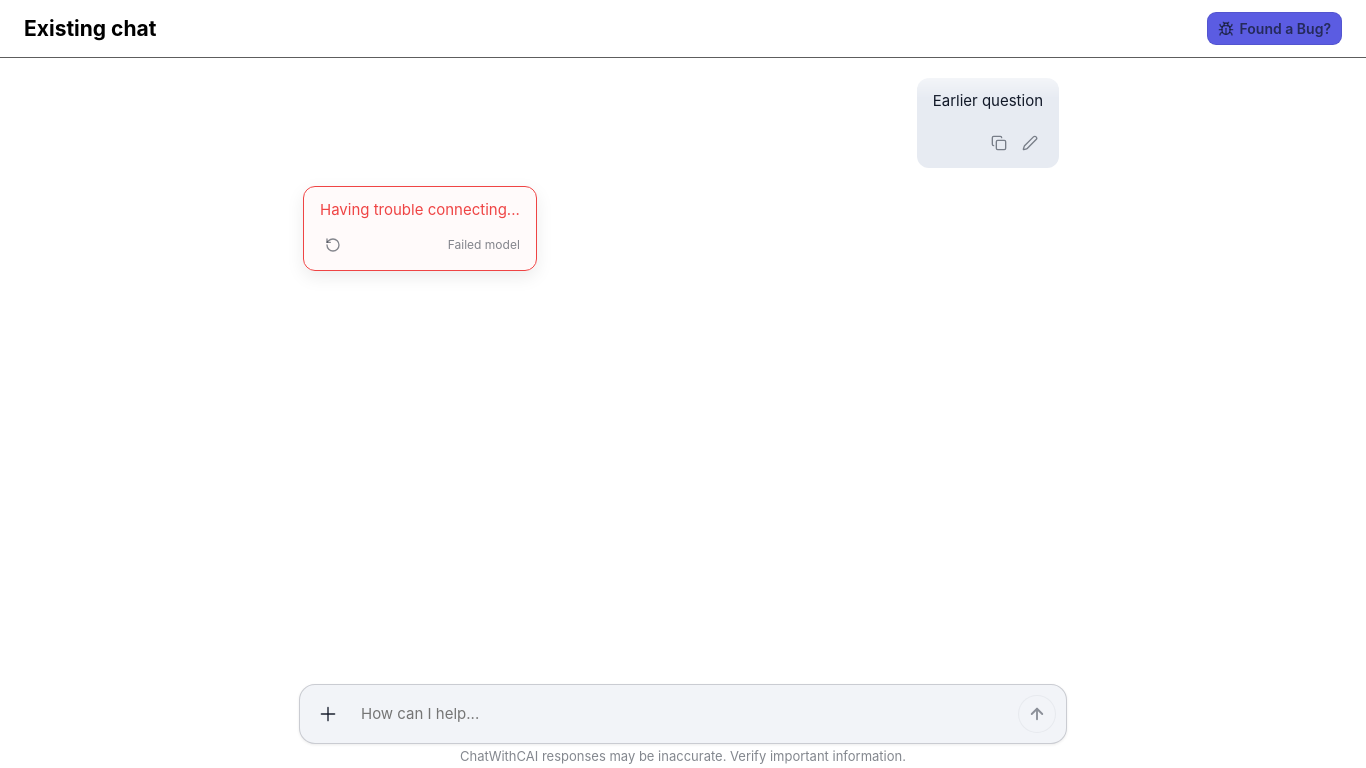
chat message sending › links an errored AI message to its regenerated replacement
Check: the text "Having trouble connecting..." is shown, box [320,198,520,221]
Click the button named "Try again..." at [333, 245], box [320,232,346,258]
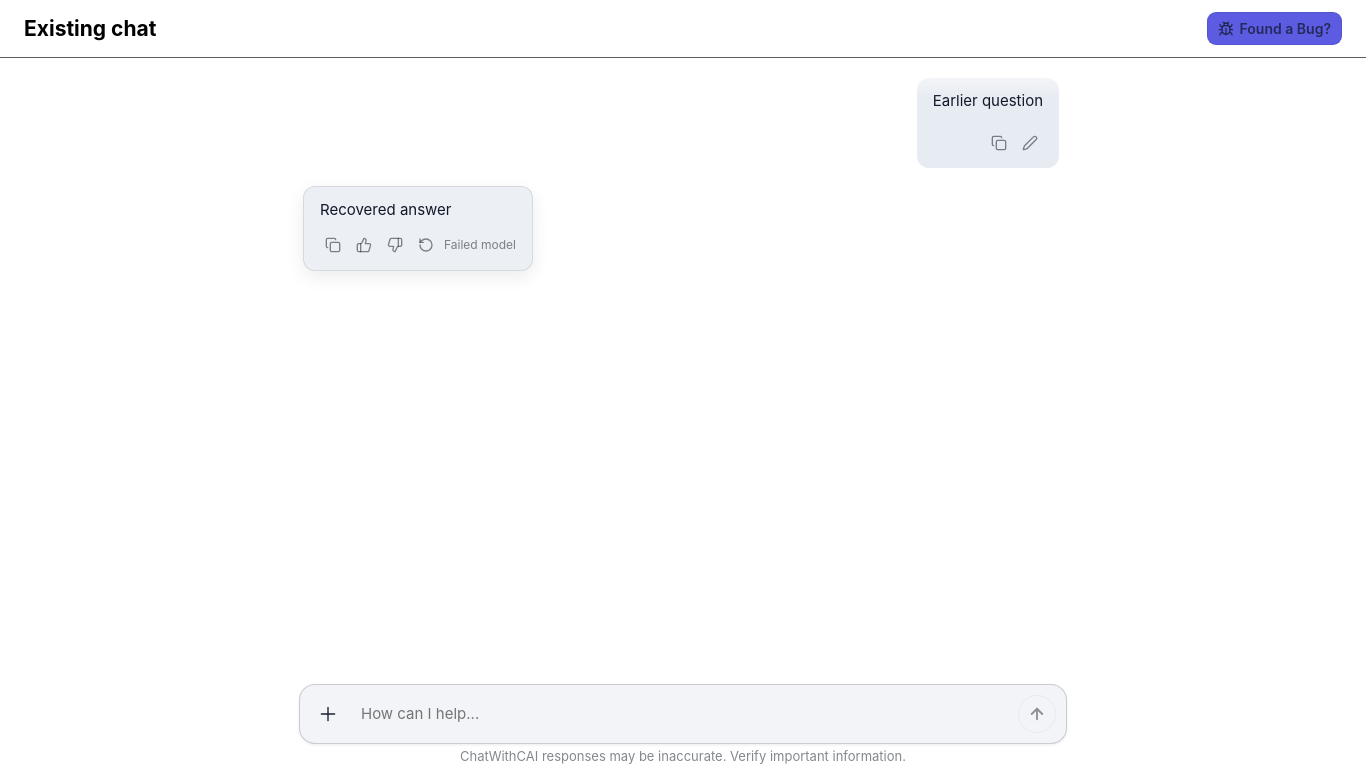
Check: the text "Recovered answer" is shown, box [320,200,452,218]
